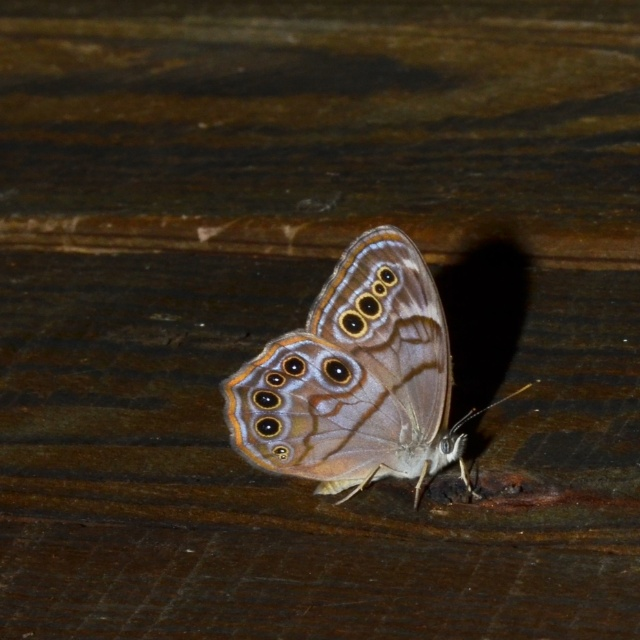Butterfly: (218, 222, 505, 522)
